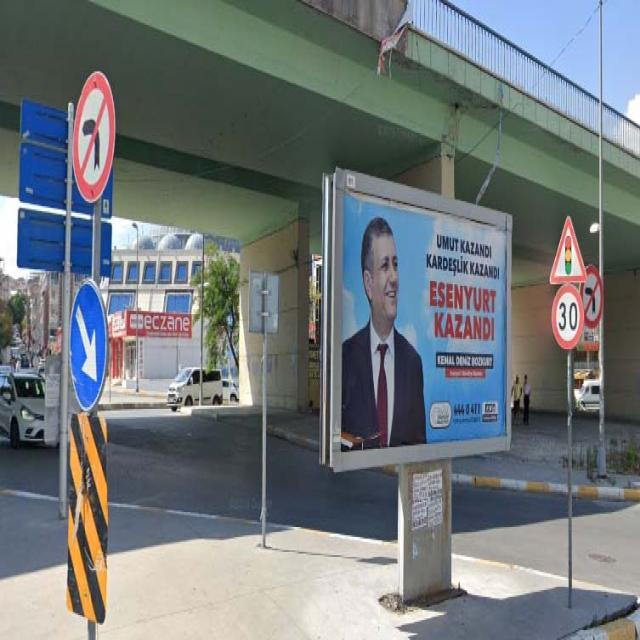30: (551, 282, 582, 350)
soladonulmez: (72, 72, 112, 205), (579, 261, 604, 329)
